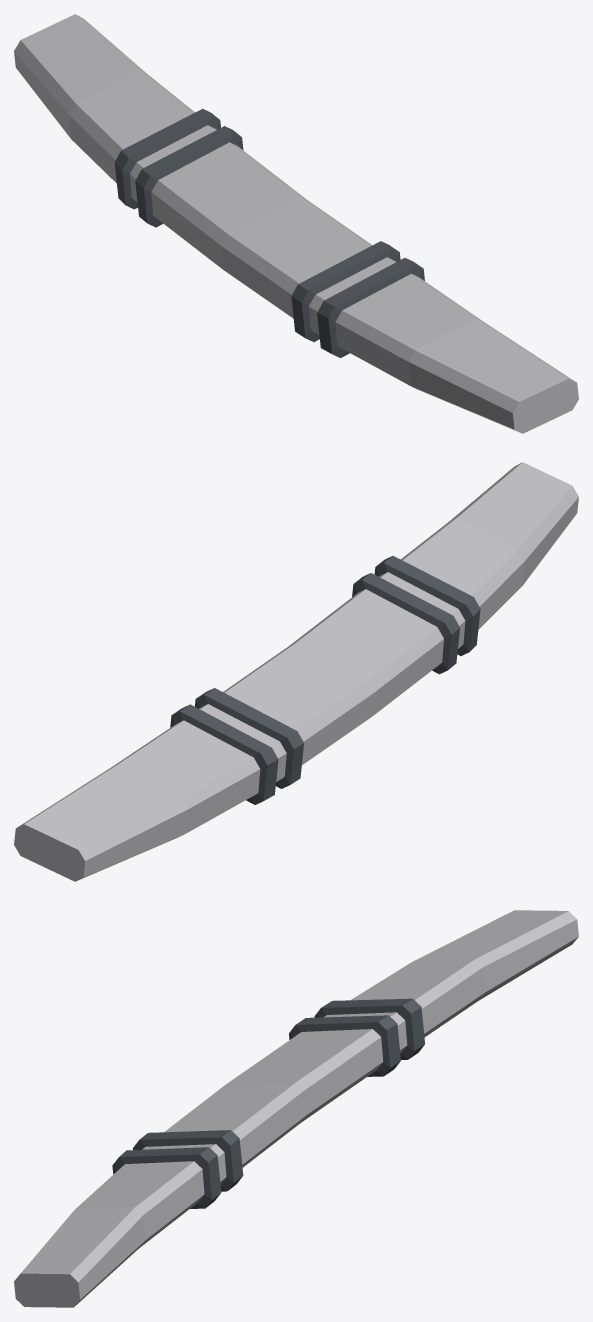
File: Mothership_02_Glider_Left.fbx
3 views of the same model, one above another, from view 1: azimuth 30°, elevation 25°; view 2: azimuth 150°, elevation 25°; view 3: azimuth 330°, elevation 25° (orthographic).
Parts seen in each view (by area): view 1: Mothership_02_Glider_Left; view 2: Mothership_02_Glider_Left; view 3: Mothership_02_Glider_Left.
Part boxes in pixels (x1,y1,x2,y2): Mothership_02_Glider_Left: [14, 14, 578, 433]; Mothership_02_Glider_Left: [14, 462, 578, 881]; Mothership_02_Glider_Left: [14, 910, 578, 1307].
Size of the model in its own units: 292 by 182 by 2166.
Materials: 1 (1 with a texture image).
